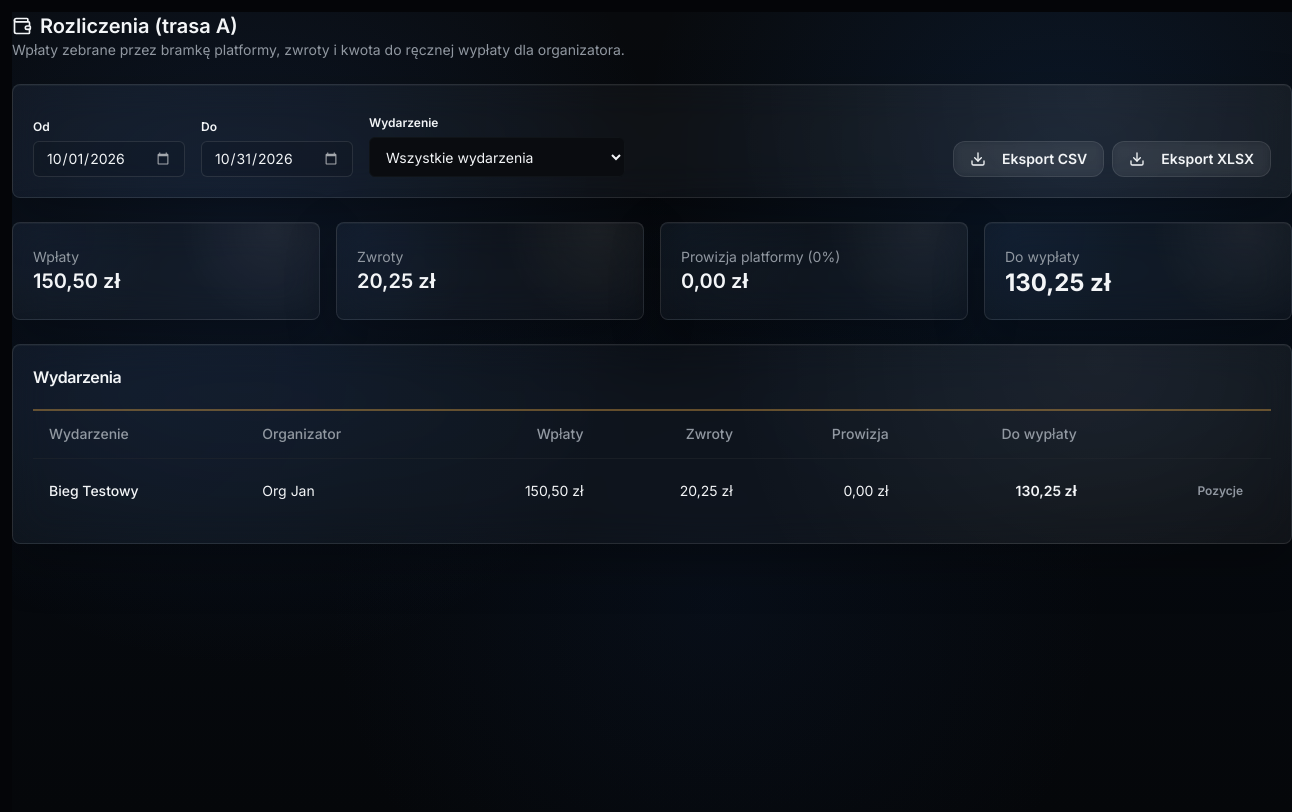
Test: AdminSettlementsTab › shows line items after choosing an event and signs refunds negatively
This screenshot has width=1292, height=812.
Click the button with aria-label "Pokaż pozycje: Bieg Testowy" at (1220, 490), box [1185,474,1255,506]
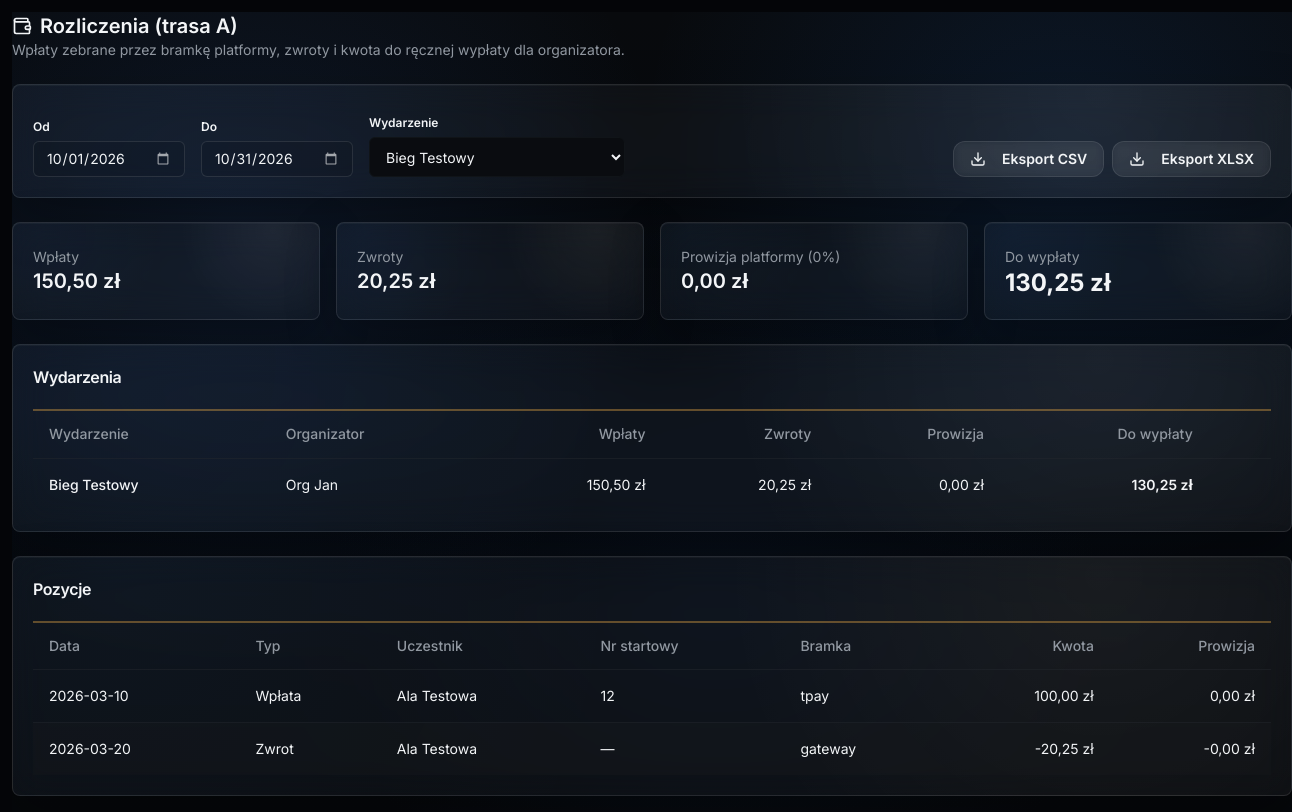
Now the text "Wpłata" is shown, box [240,670,381,722]
Now the text "Zwrot" is shown, box [240,722,381,775]
Now the text "-20,25 zł" is shown, box [944,722,1110,775]
